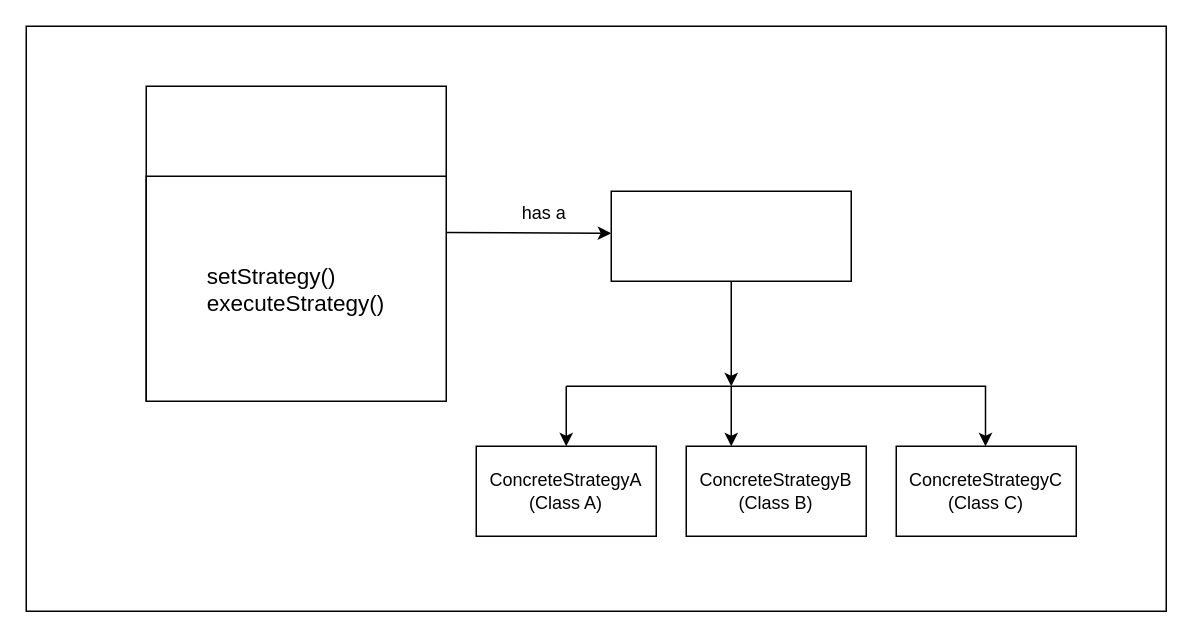
The diagram is 1193 pixels wide and 638 high, and some of its shapes have lost their labels. The shapes that lost their labels are listed below. From the top down, each one's box as (x1, y1, x2, y2) in pixels, then its label:
(145, 85, 446, 401): Context
(610, 190, 851, 281): Strategy(Interface)
